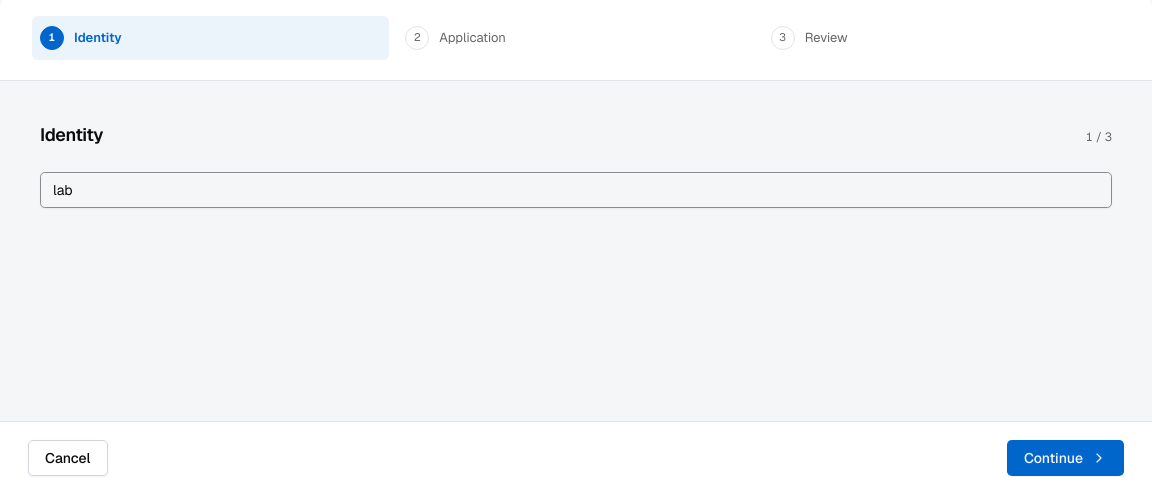
WizardForm › does not save while a skipped step is still blocked by asynchronous validation
The width and height of the screenshot is (1152, 493).
Click the button "3 Review".
click(826, 37)  # box top-left (763, 16), bottom-right (1120, 60)
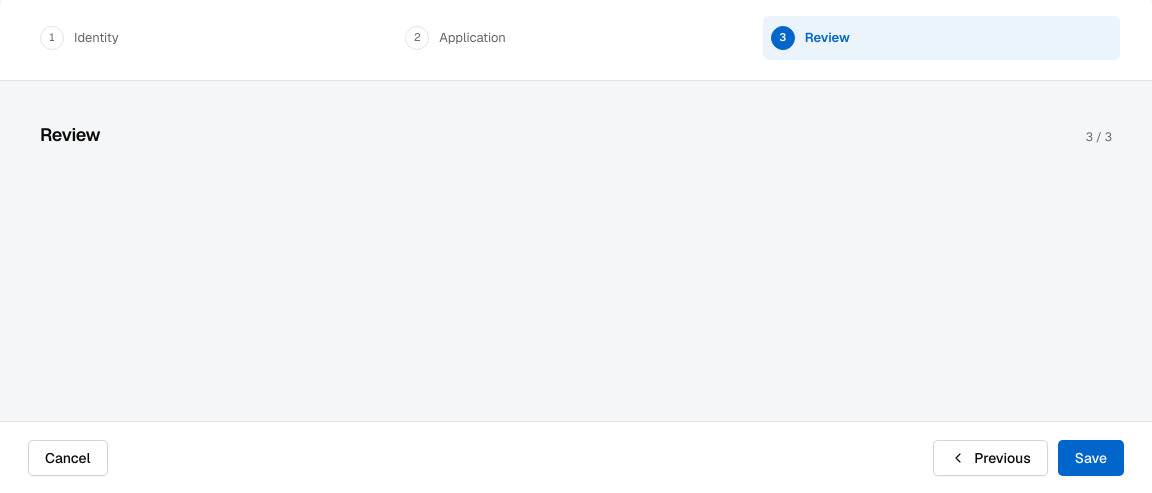
Click the button "Save".
click(1091, 458)  # box top-left (1058, 440), bottom-right (1124, 476)
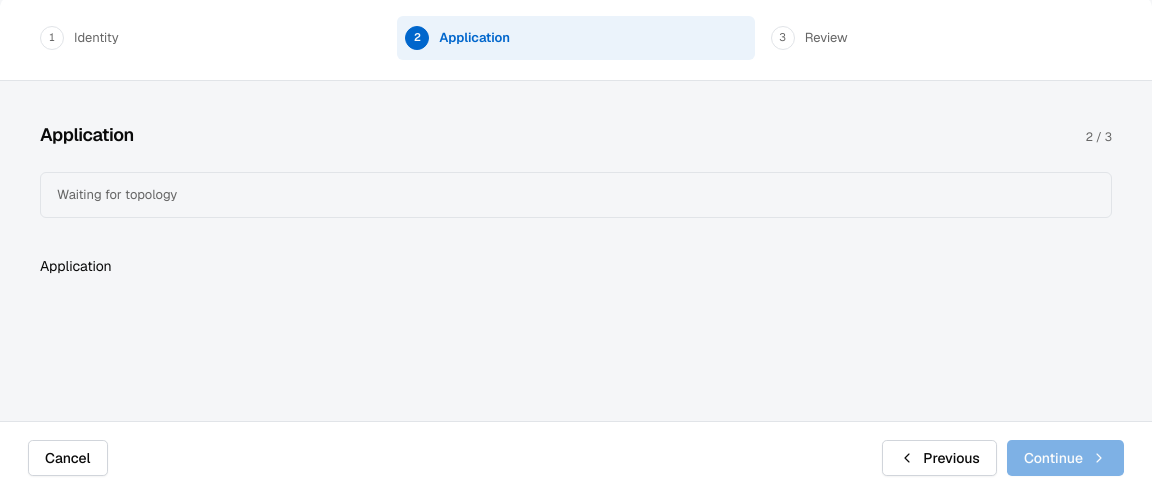
Now the heading "Application" is shown, box top-left (40, 121), bottom-right (134, 148)
